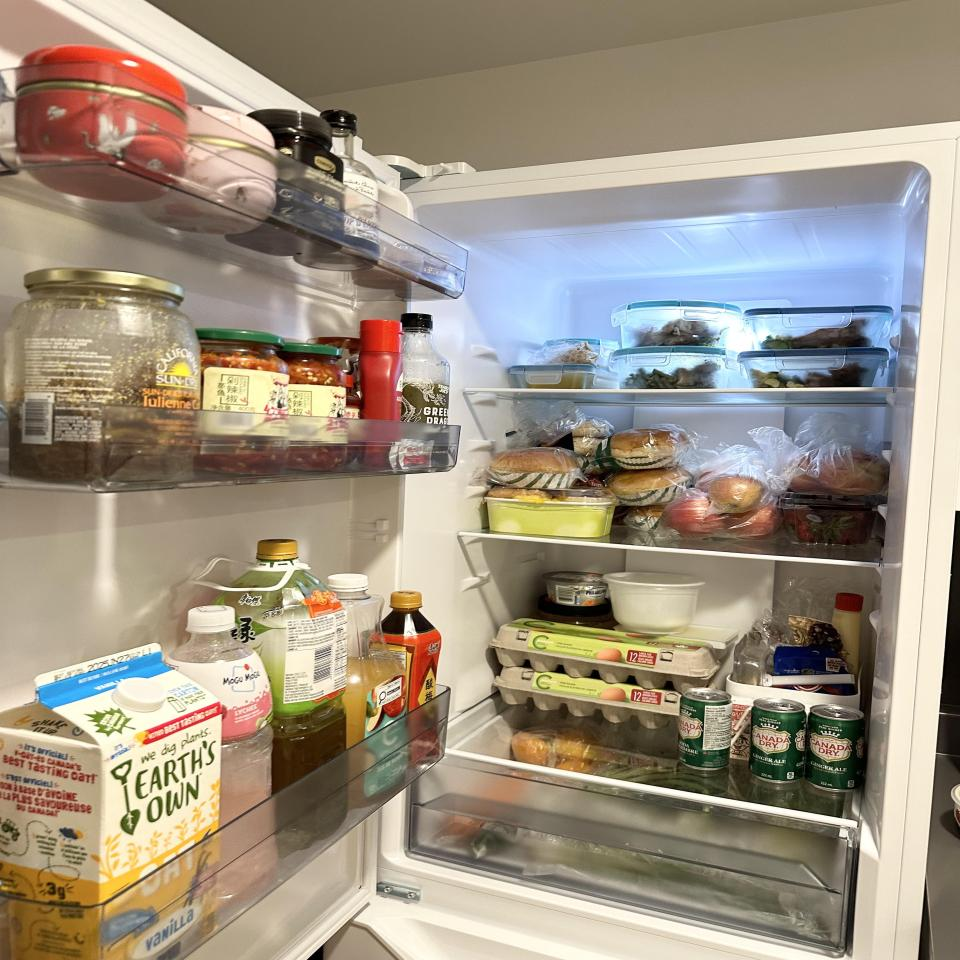Huevos: (490, 618, 721, 692), (495, 664, 723, 728)
Manzana: (816, 451, 890, 496), (668, 497, 721, 536), (710, 477, 766, 513), (724, 502, 780, 538)
Pepino: (471, 819, 516, 859)
